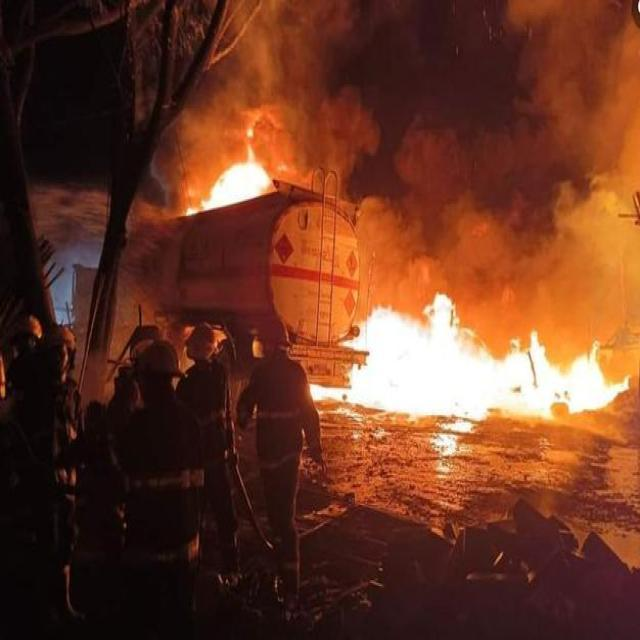Fire: (350, 292, 624, 421), (200, 157, 276, 214)
